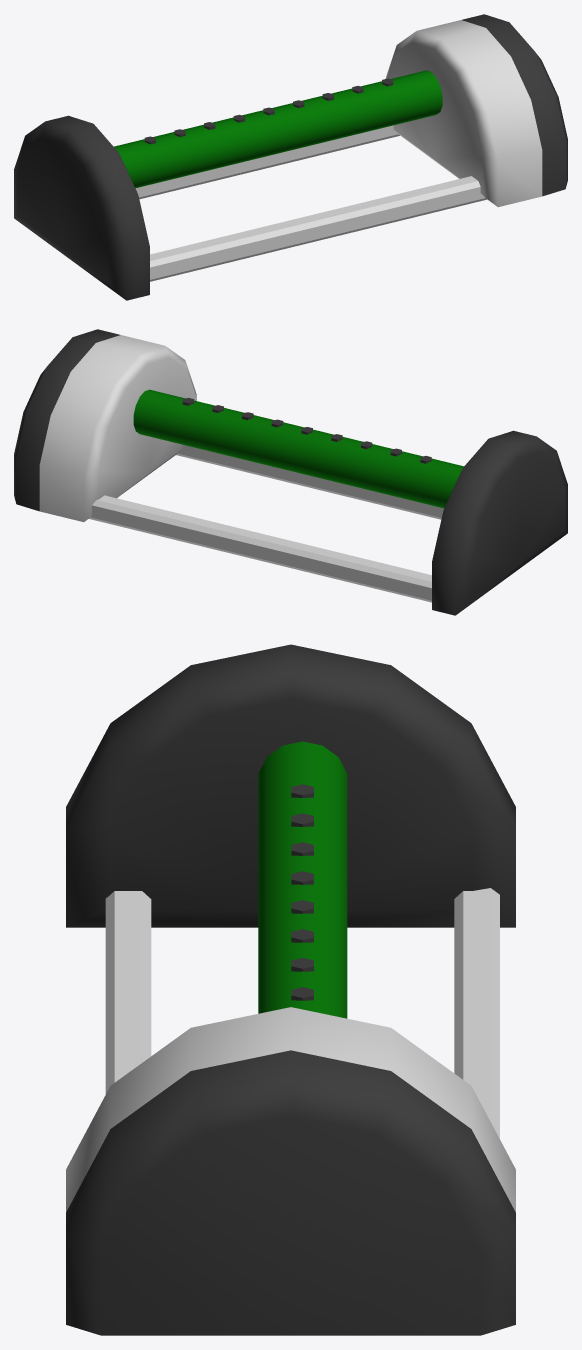
File: Sprinkler_02.fbx
The picture shows the model from 3 angles, top to bottom: view 1: azimuth 30°, elevation 25°; view 2: azimuth 150°, elevation 25°; view 3: azimuth 270°, elevation 25°; orthographic projection. The views are drawn at different scales.
Parts seen in each view (by area): view 1: Sprinkler_shopping; view 2: Sprinkler_shopping; view 3: Sprinkler_shopping.
Boxes of the visible parts, bbox=[...] form: Sprinkler_shopping: bbox=[14, 14, 567, 300]; Sprinkler_shopping: bbox=[14, 329, 567, 615]; Sprinkler_shopping: bbox=[66, 644, 515, 1335].
Size of the model in its own units: 23.12 by 6.29 by 9.85.
